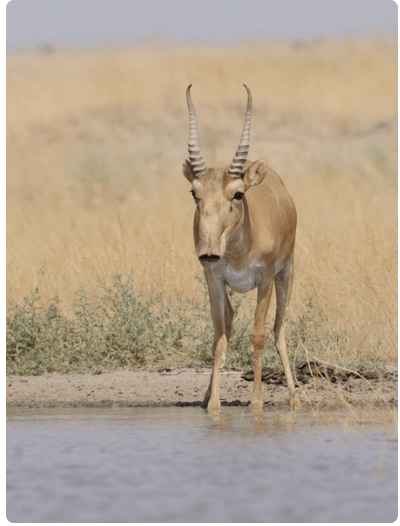saiga: (178, 68, 305, 407)
